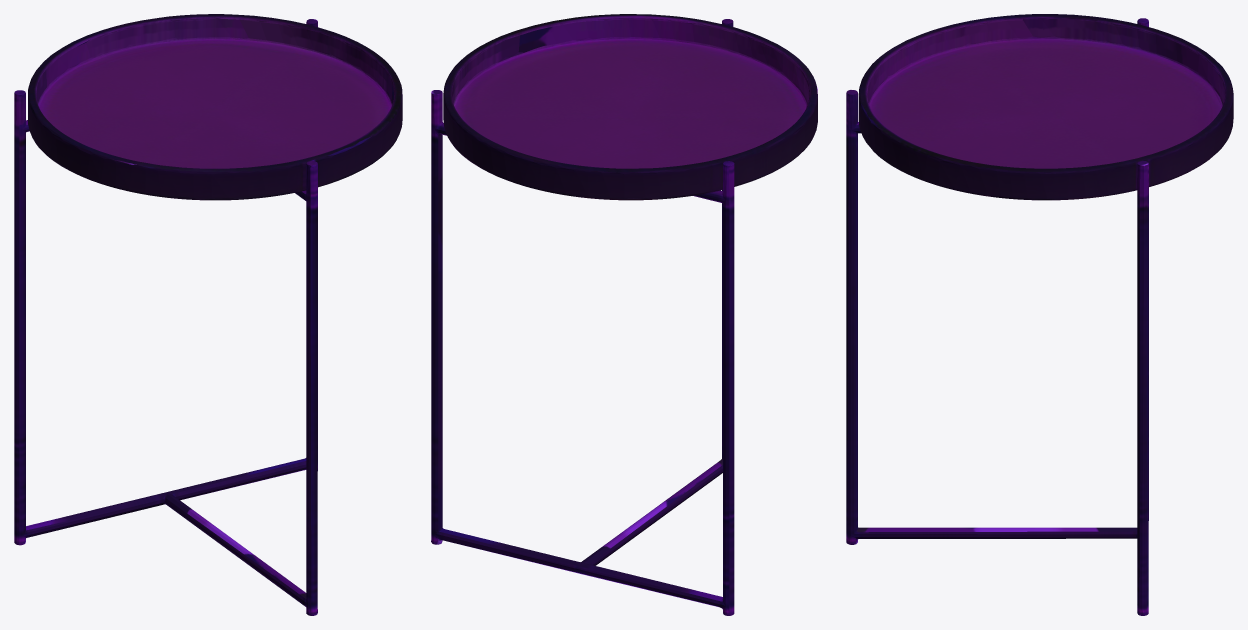
The model's file is edited_mesh.glb.
3 views of the same model, side by side, from view 1: azimuth 30°, elevation 25°; view 2: azimuth 150°, elevation 25°; view 3: azimuth 270°, elevation 25° (orthographic).
Parts seen in each view (by area): view 1: normalized_model.obj; view 2: normalized_model.obj; view 3: normalized_model.obj.
Part boxes in pixels (<box>): normalized_model.obj: <box>14,14,402,615</box>; normalized_model.obj: <box>431,14,817,615</box>; normalized_model.obj: <box>846,14,1233,615</box>.
Size of the model in its own units: 1.09 by 1.44 by 1.12.
Materials: 1 (1 with a texture image).
